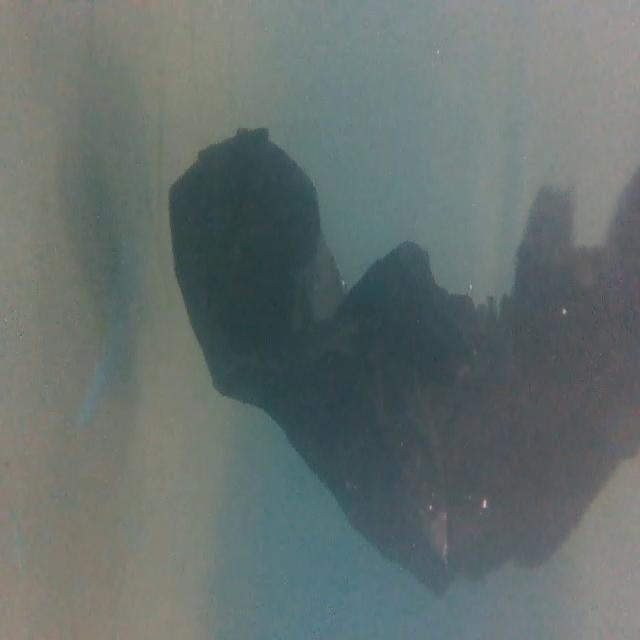plastic bags: (165, 128, 640, 597)
